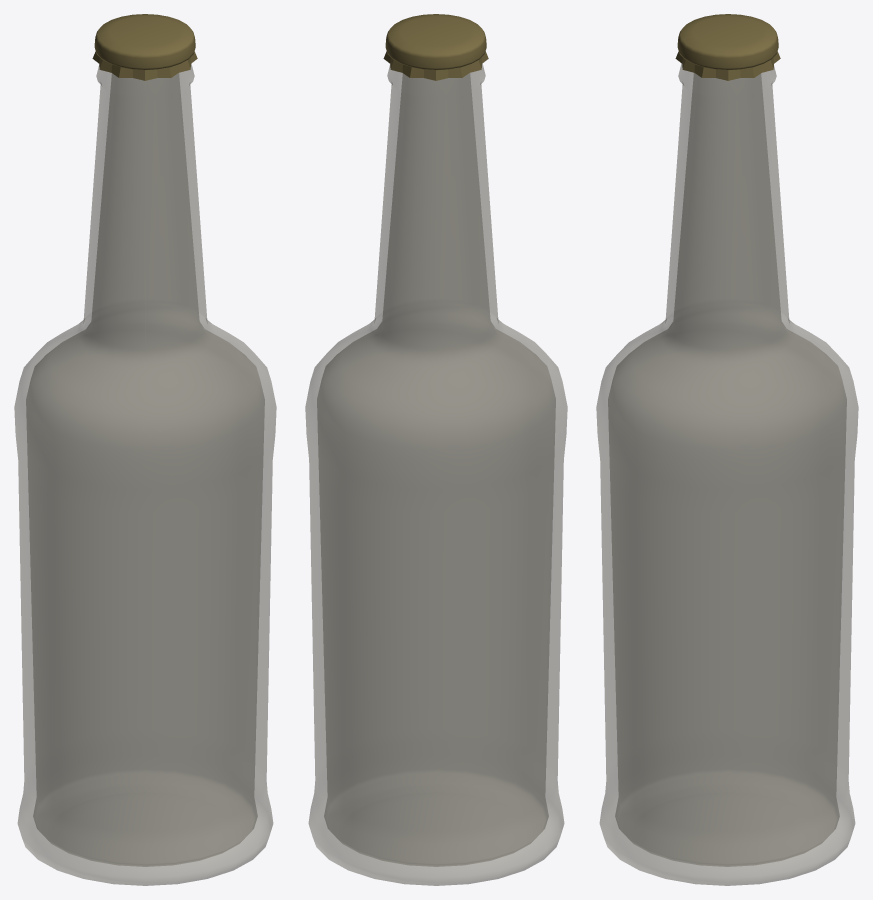
The model's file is Bottle_WithCap_NoLabel.fbx.
The picture shows the model from 3 angles, left to right: view 1: azimuth 30°, elevation 25°; view 2: azimuth 150°, elevation 25°; view 3: azimuth 270°, elevation 25°; orthographic projection.
Visible parts, largest first — view 1: Glass_Bottle, Bottle_Cap1; view 2: Glass_Bottle, Bottle_Cap1; view 3: Glass_Bottle, Bottle_Cap1.
Boxes of the visible parts, x1,y1,x2,y2 form: Glass_Bottle: [14, 64, 276, 885]; Bottle_Cap1: [92, 14, 197, 80]; Glass_Bottle: [305, 64, 567, 885]; Bottle_Cap1: [383, 14, 488, 80]; Glass_Bottle: [596, 63, 858, 885]; Bottle_Cap1: [675, 14, 780, 80].
Size of the model in its own units: 52.06 by 176 by 52.06.
